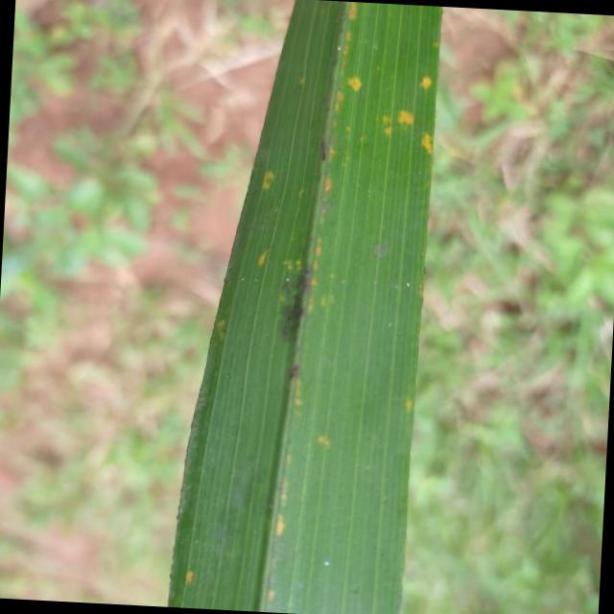Kalium: (164, 0, 444, 614)
